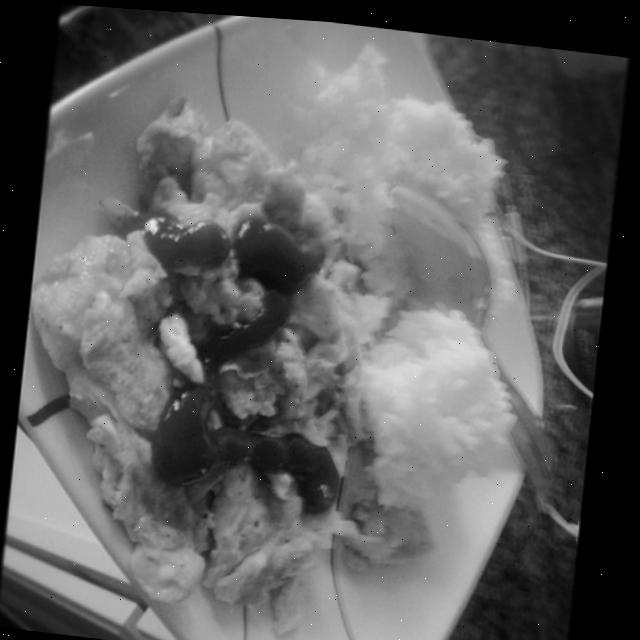鸡蛋料理: (0, 38, 569, 640)
